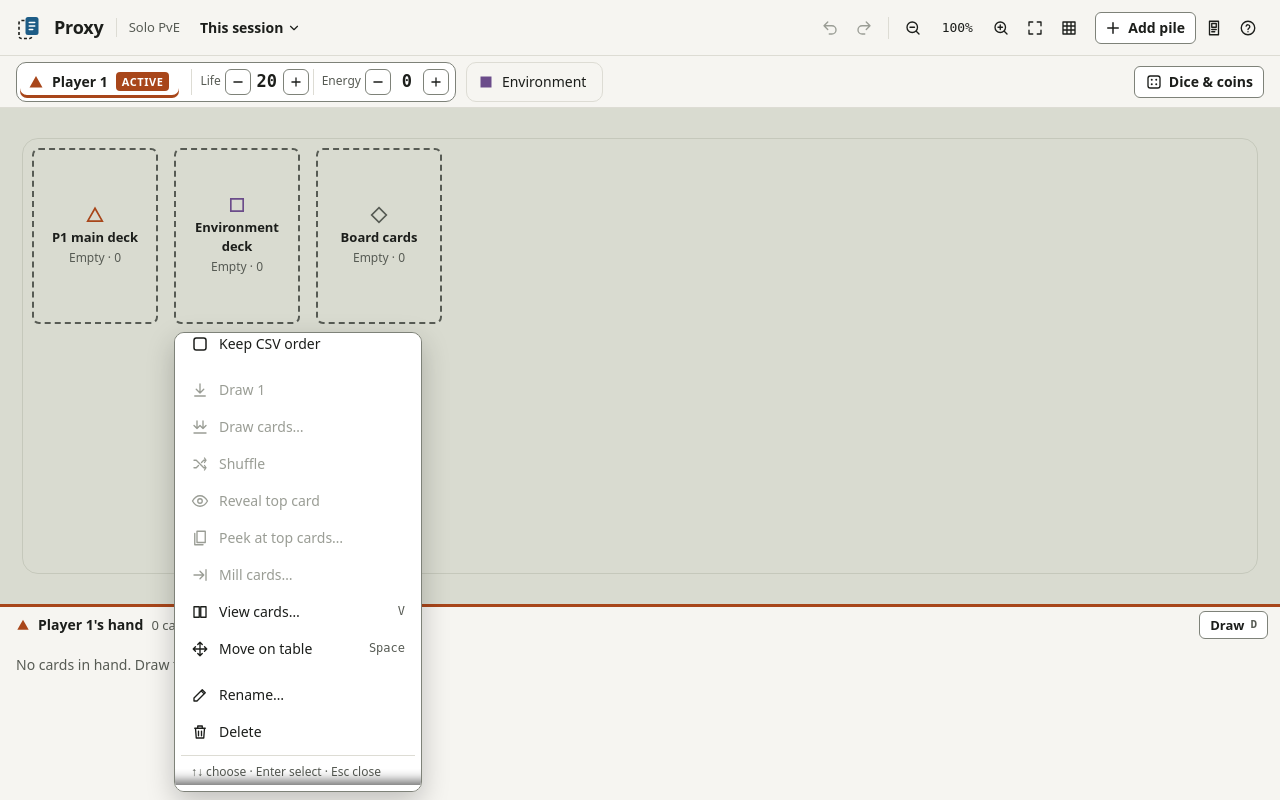
it: SP-4 manage piles › deletes an empty pile and moves focus to the next one
(page scrolled)
Click the menu item "Delete": (298, 732) [181,714,415,750]
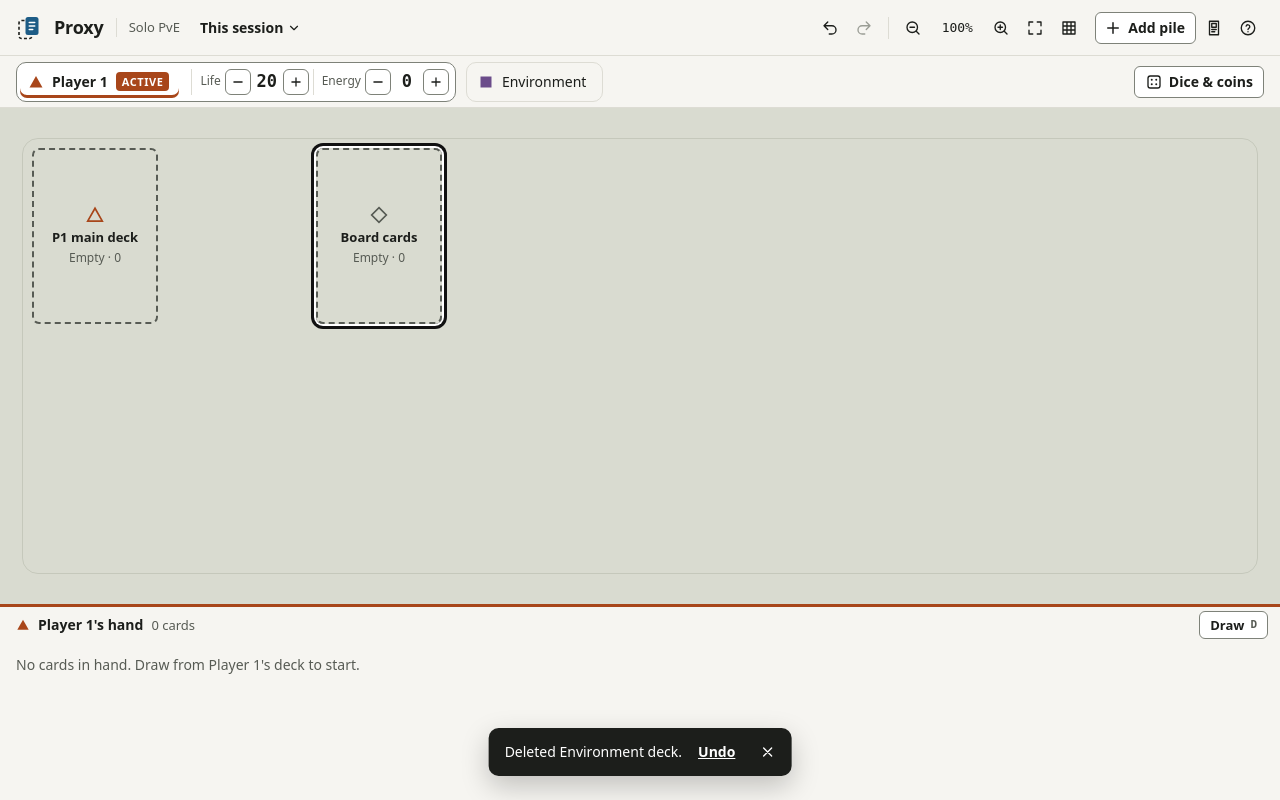
Expected: the element with class "toast" shows "Deleted Environment deck.", [505,742,682,761]
Click the button "Undo": (717, 752) [690,736,743,768]
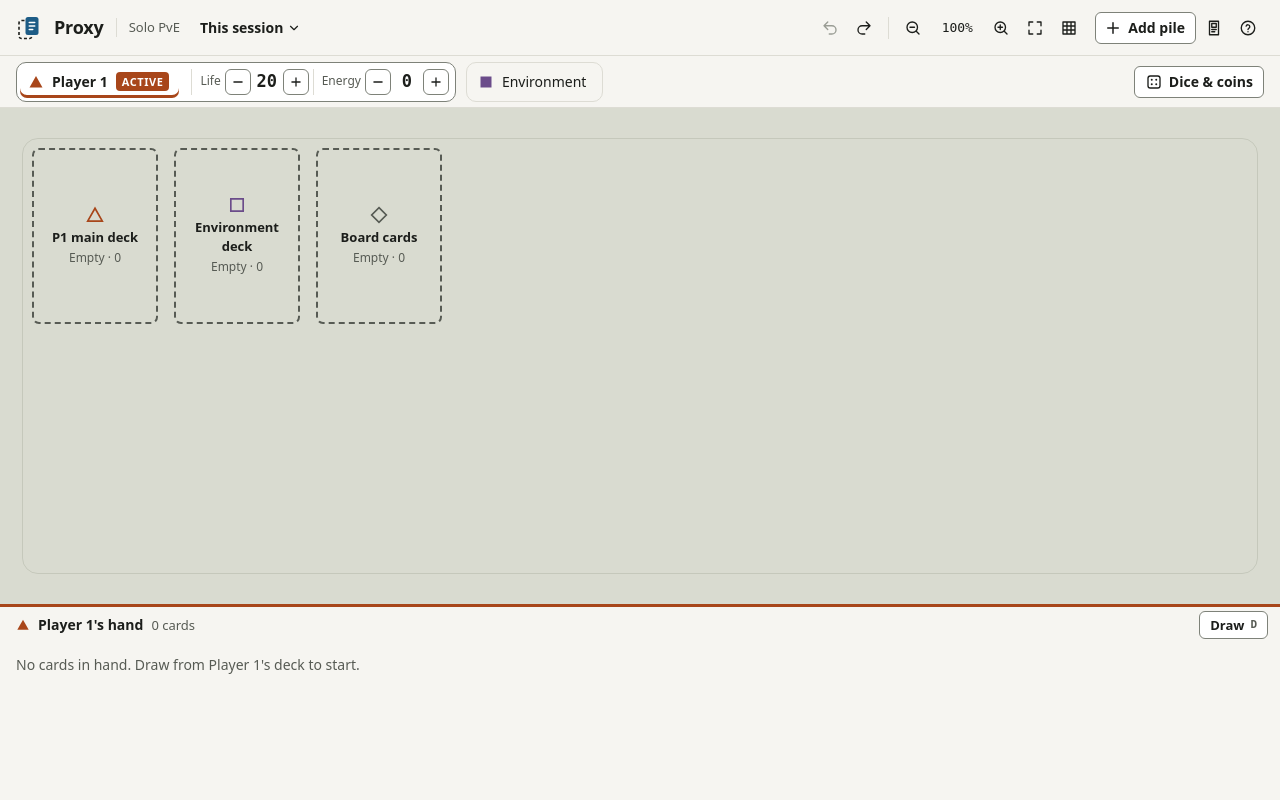
Expected: the element with class "toast" is gone
